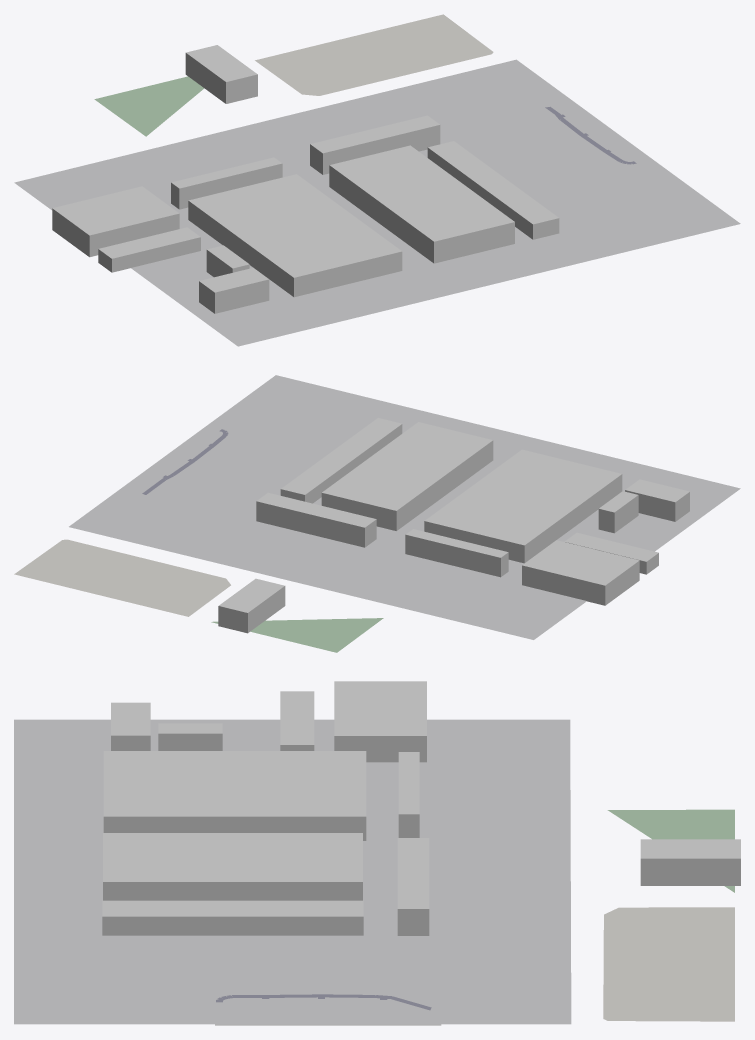
Rendered from 100_110_mid.glb.
The picture shows the model from 3 angles, top to bottom: view 1: azimuth 30°, elevation 25°; view 2: azimuth 150°, elevation 25°; view 3: azimuth 270°, elevation 25°; orthographic projection. The views are drawn at different scales.
Size of the model in its own units: 519 by 23.07 by 504.
